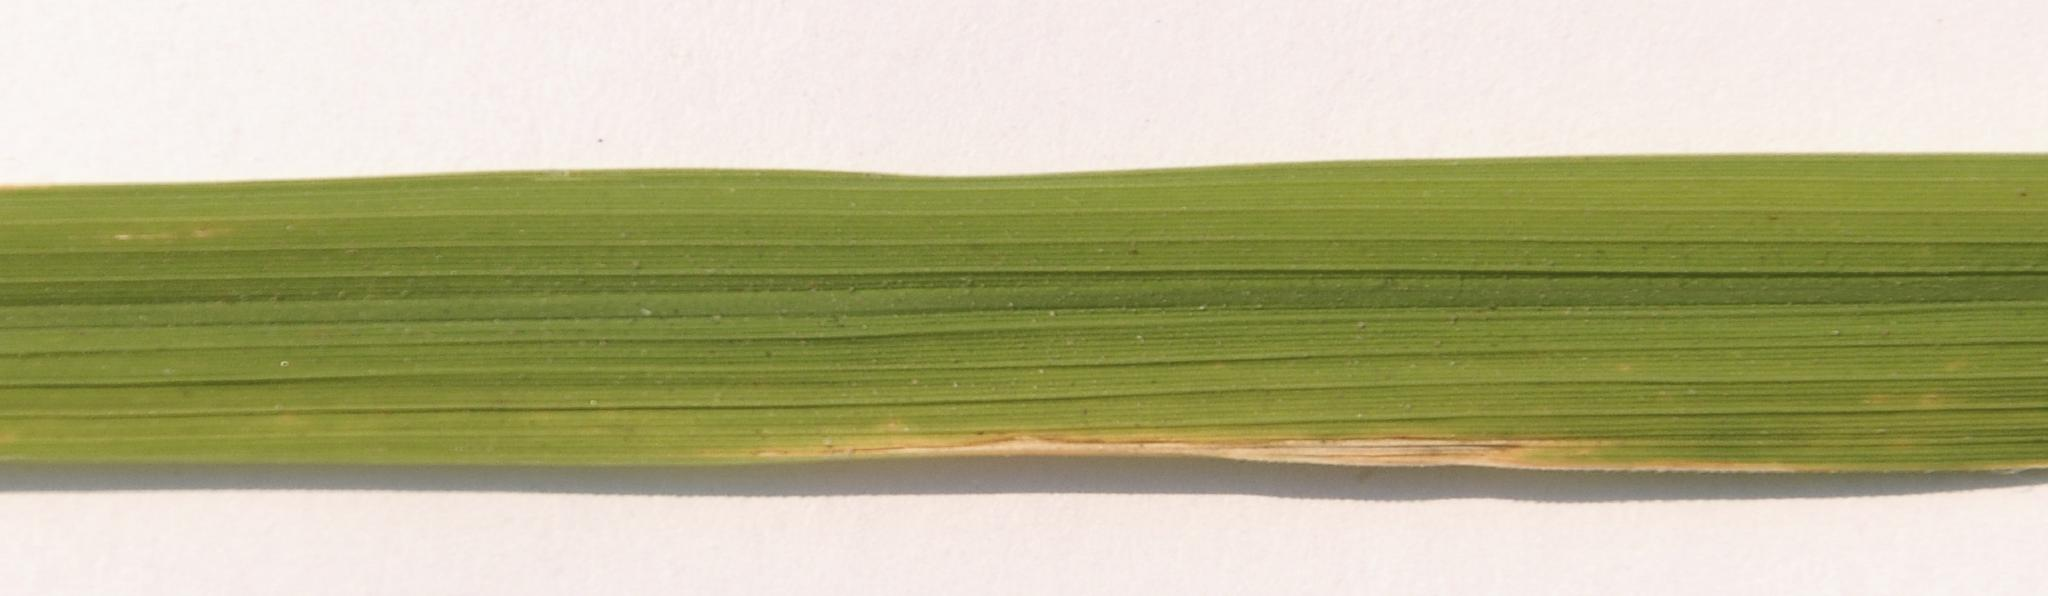2 BacterialBlight: (626, 372, 1887, 518)
